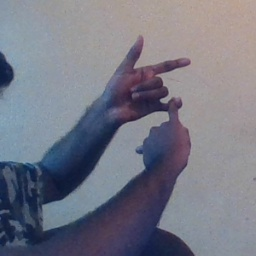S: (89, 29, 205, 164)
